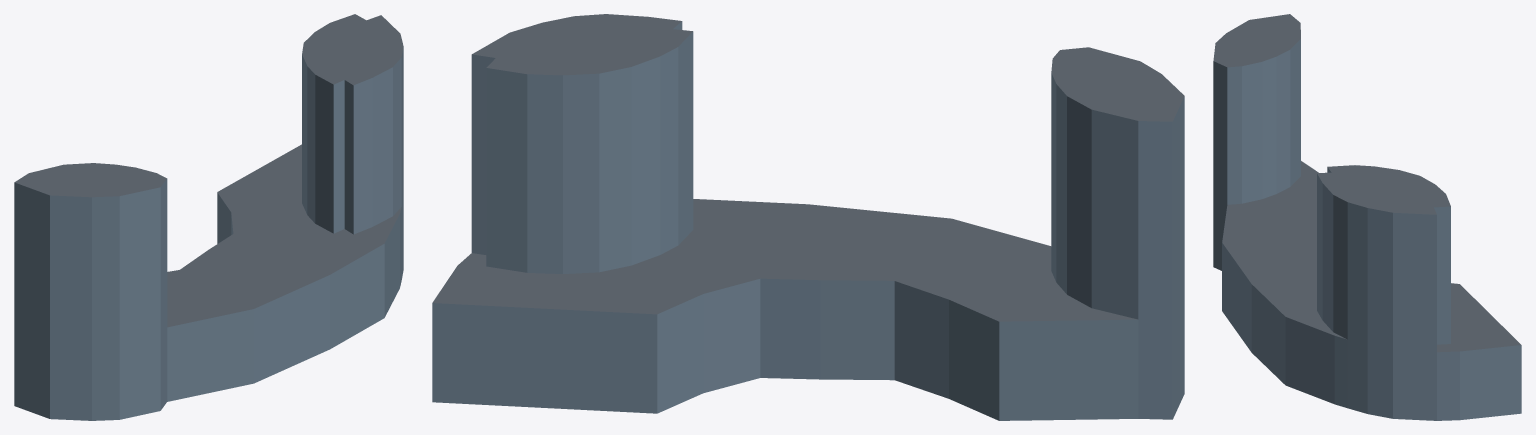
3 renders of one model, left to right at view 1: azimuth 30°, elevation 25°; view 2: azimuth 150°, elevation 25°; view 3: azimuth 270°, elevation 25°, orthographic. The views are drawn at different scales.
Parts seen in each view (by area): view 1: HP-w257424587; view 2: HP-w257424587; view 3: HP-w257424587.
Boxes of the visible parts, <box> form: HP-w257424587: <box>14,14,403,420</box>; HP-w257424587: <box>432,14,1184,420</box>; HP-w257424587: <box>1213,14,1521,420</box>.
Bounding box in the file's own units: 157 × 75 × 102.
